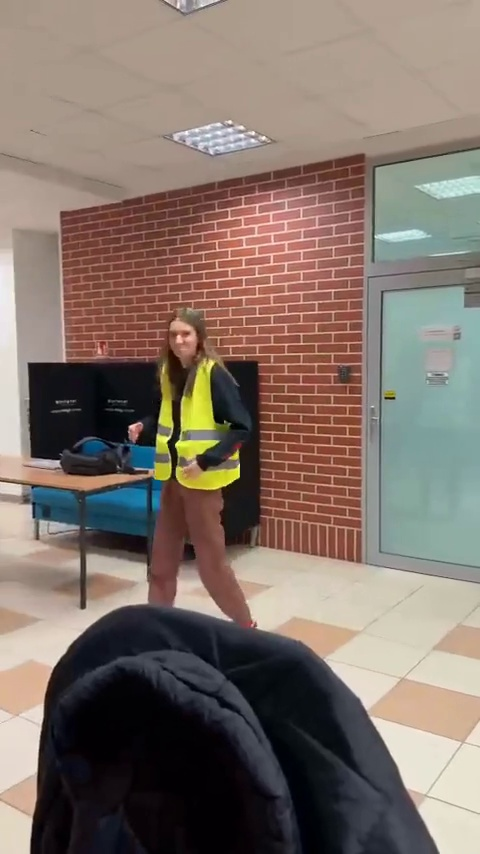vest: (125, 309, 262, 622)
